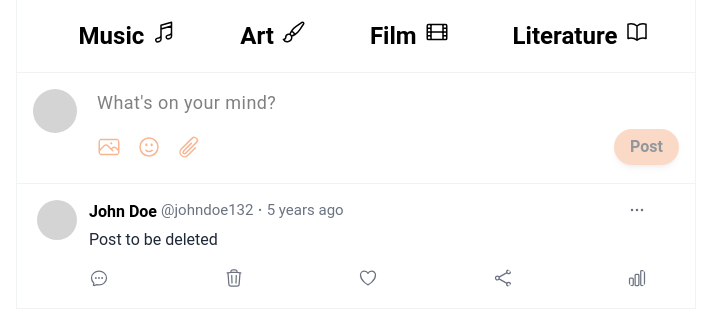
Test case: Feed Component › should delete a post from the feed component
Expected: the text "Post to be deleted" is shown, [89,230,218,249]
// Click the delete button
Click the icon with test id "post-delete-button" at (234, 278), box [216,260,252,296]
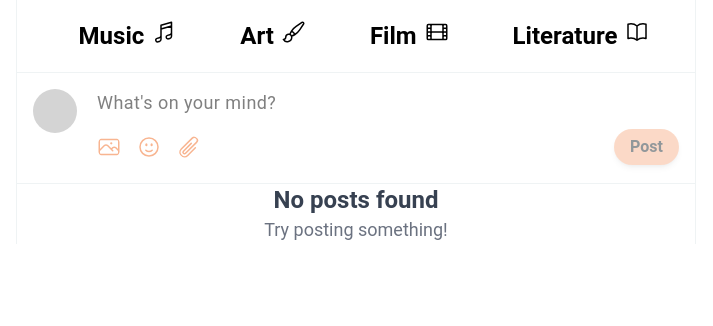
Result: the element with test id "post" is gone
Result: the text "Post to be deleted" is gone
Result: the heading "No posts found" is shown at [274,184,438,216]
